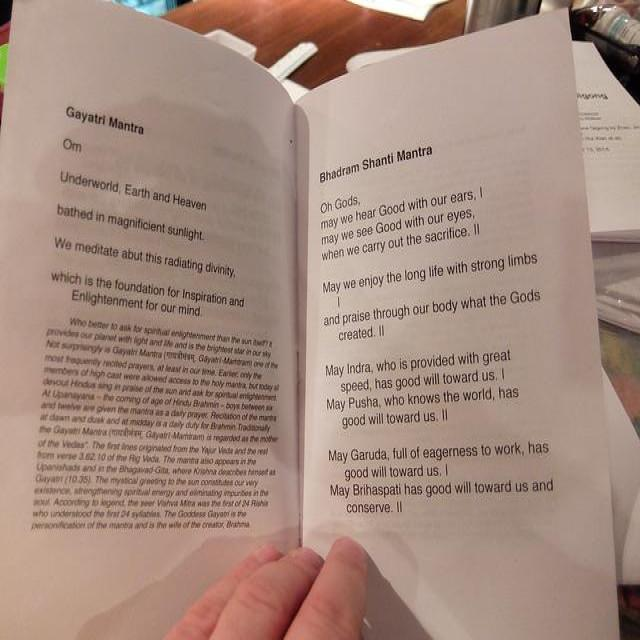paper: (0, 0, 624, 640), (569, 40, 640, 244)
